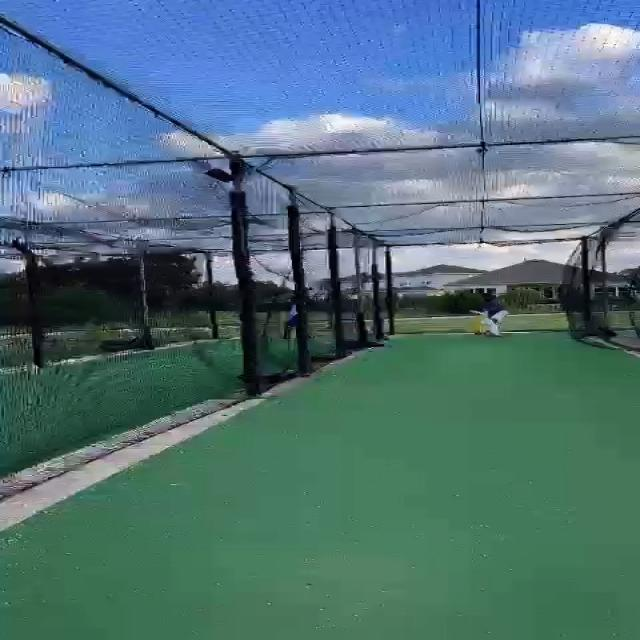batsman: (468, 292, 509, 338)
